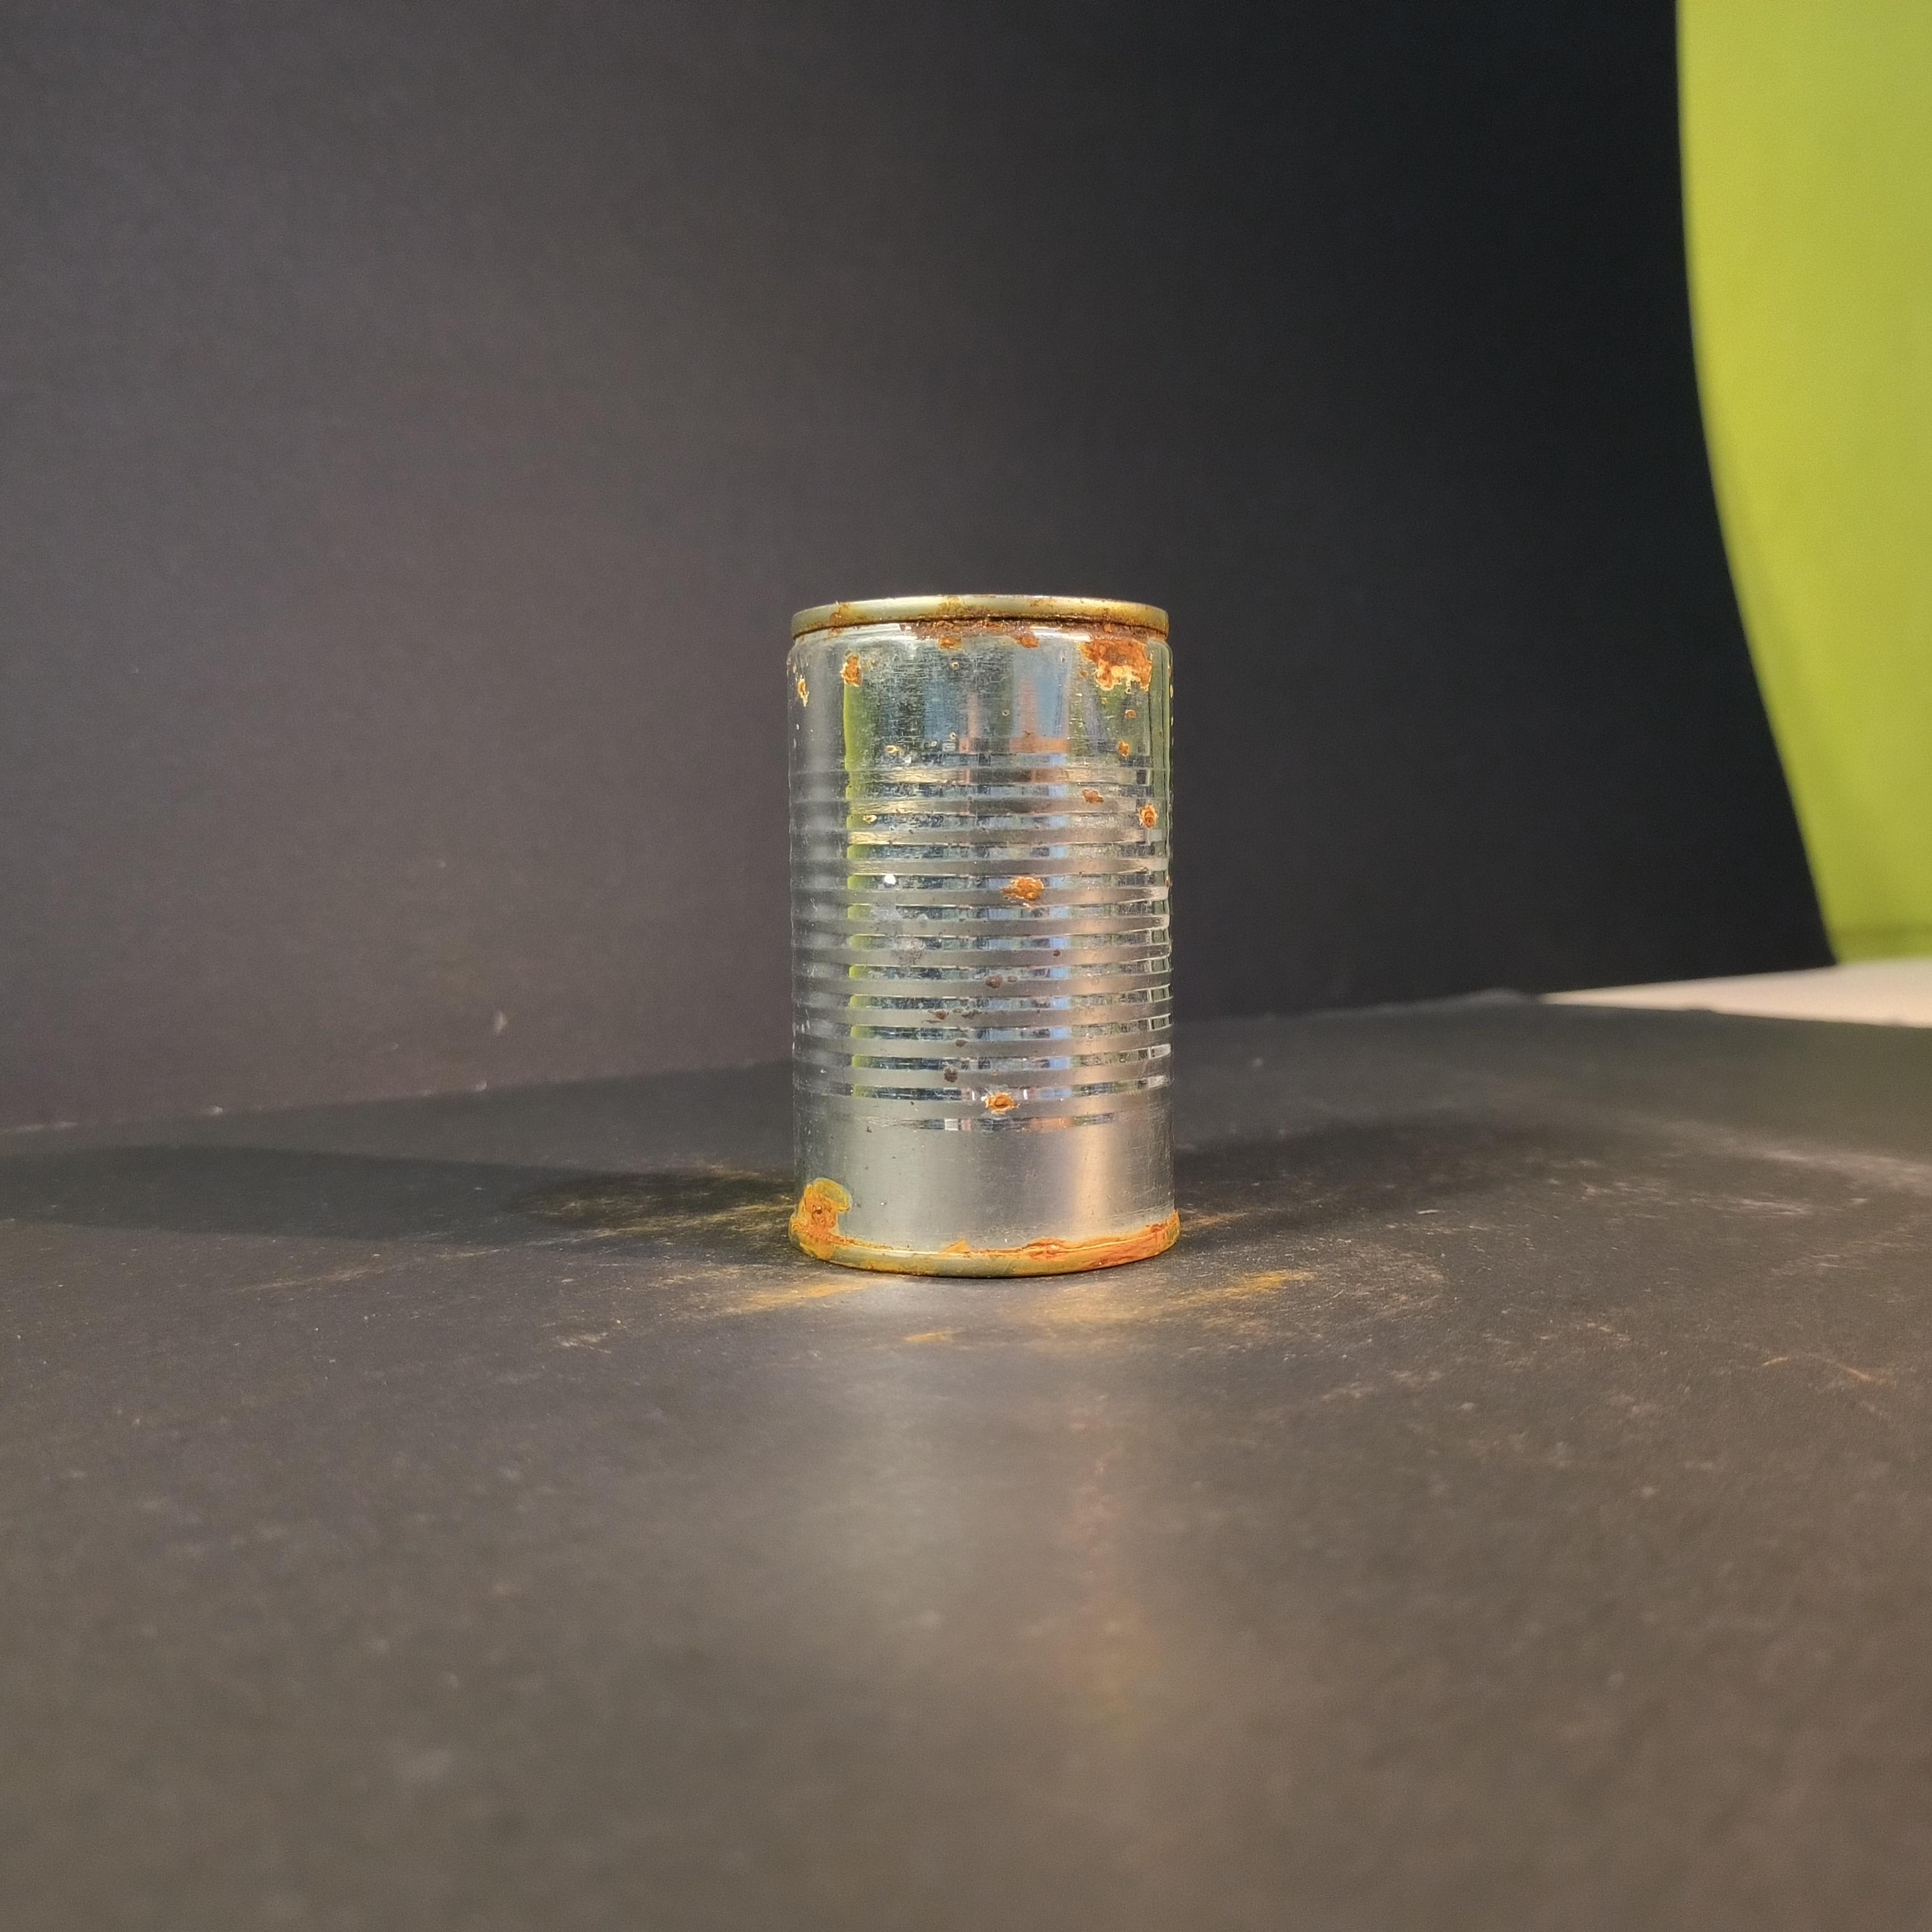Rusted: (748, 570, 1200, 1322)
